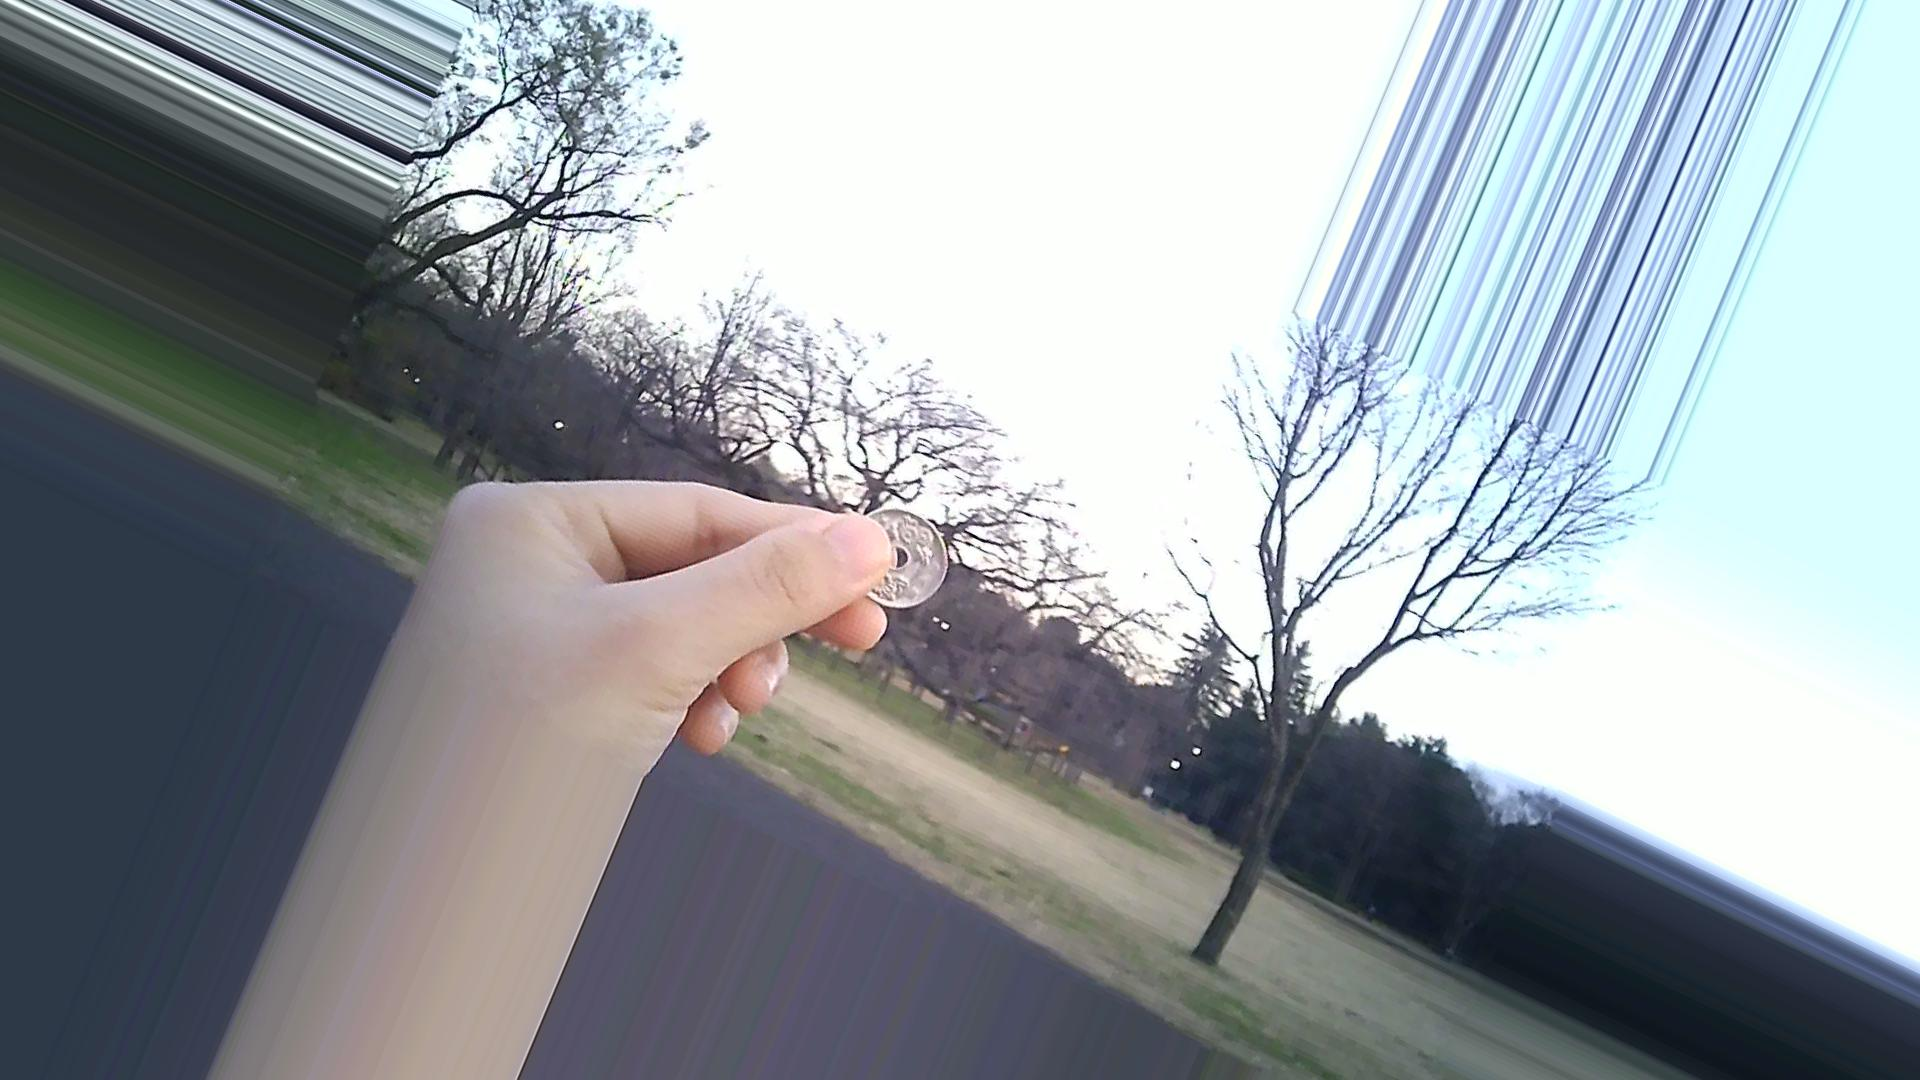50 Yen: (835, 497, 964, 605)
